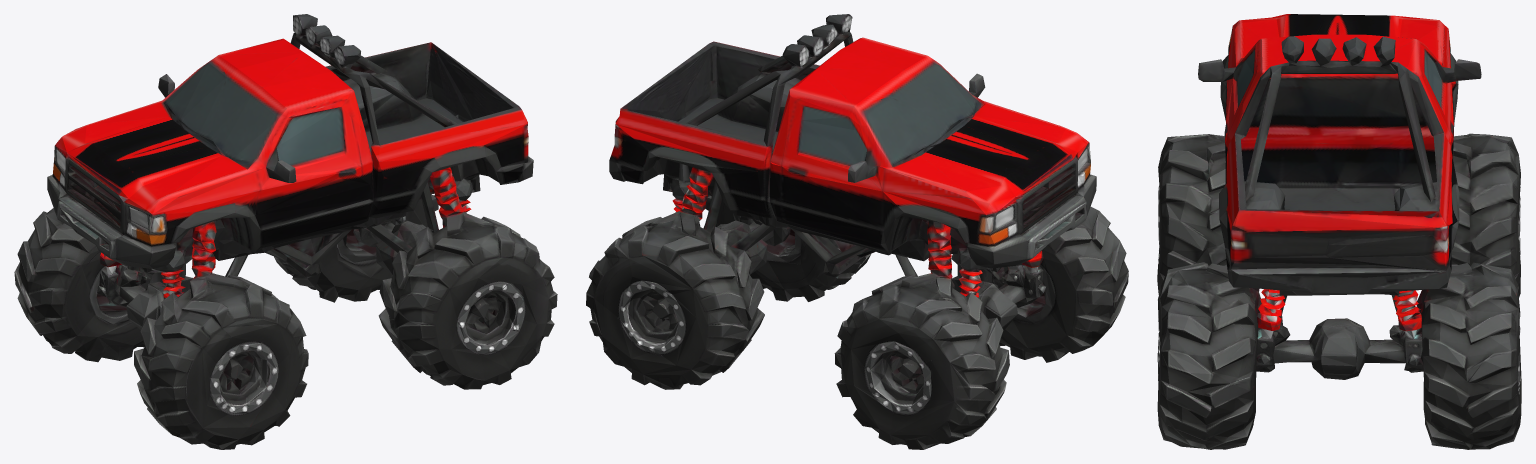
File: crusher.glb
The picture shows the model from 3 angles, left to right: view 1: azimuth 30°, elevation 25°; view 2: azimuth 150°, elevation 25°; view 3: azimuth 270°, elevation 25°; orthographic projection. The views are drawn at different scales.
Parts seen in each view (by area): view 1: geometry_0; view 2: geometry_0; view 3: geometry_0.
Boxes of the visible parts, box(x1,y1,x2,y2) form: geometry_0: box(14, 14, 557, 449); geometry_0: box(586, 14, 1128, 449); geometry_0: box(1157, 14, 1521, 449).
Bounding box in the file's own units: 1.9 × 1.46 × 1.36.
Materials: 1 (1 with a texture image).
